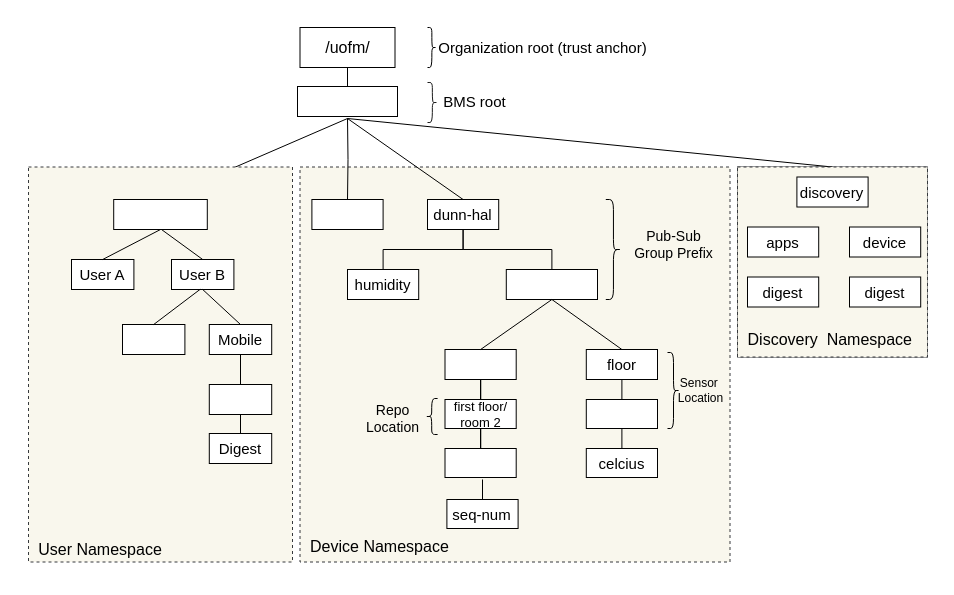
Some shapes in this 954 by 595 pixel diagram are drawn without their labels. Here are the shapes that lost their labels. From the top down, the centre of each, then its label:
At (x=347, y=101): "bms".
At (x=160, y=214): "CS".
At (x=347, y=214): "FIT".
At (x=551, y=284): "temperature".
At (x=153, y=339): "Laptop".
At (x=480, y=364): "repo".
At (x=240, y=399): "Key".
At (x=621, y=413): "panel /sensor".
At (x=480, y=463): "repo-id".
